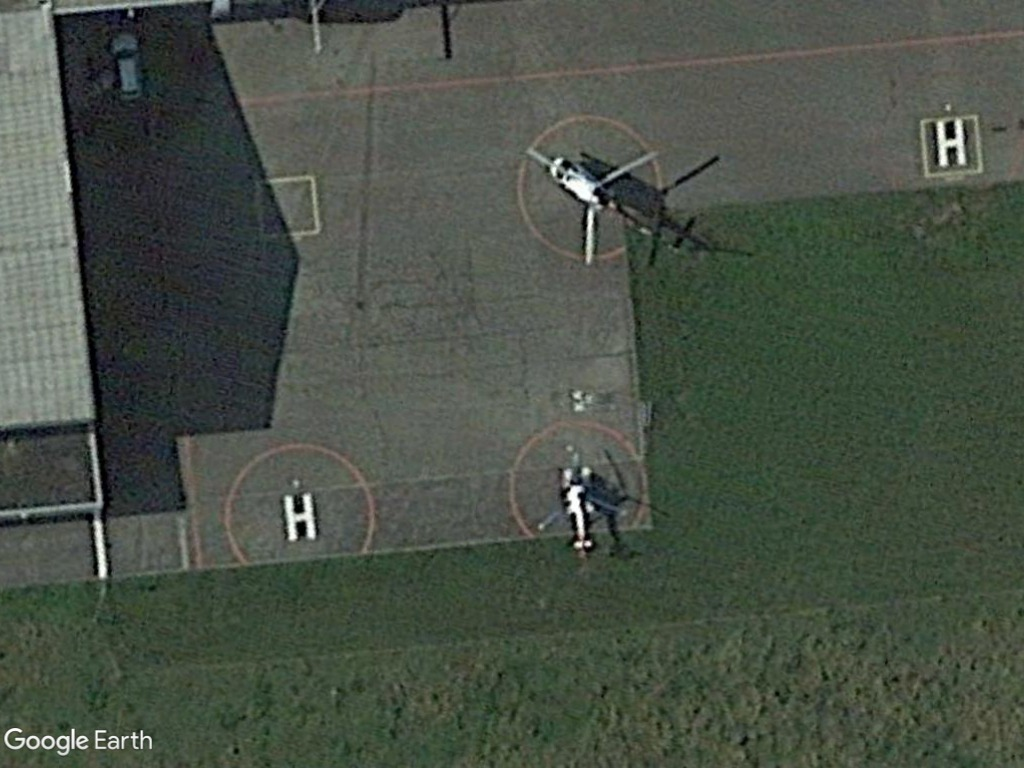helicopter: (523, 142, 703, 274), (530, 438, 633, 563)
